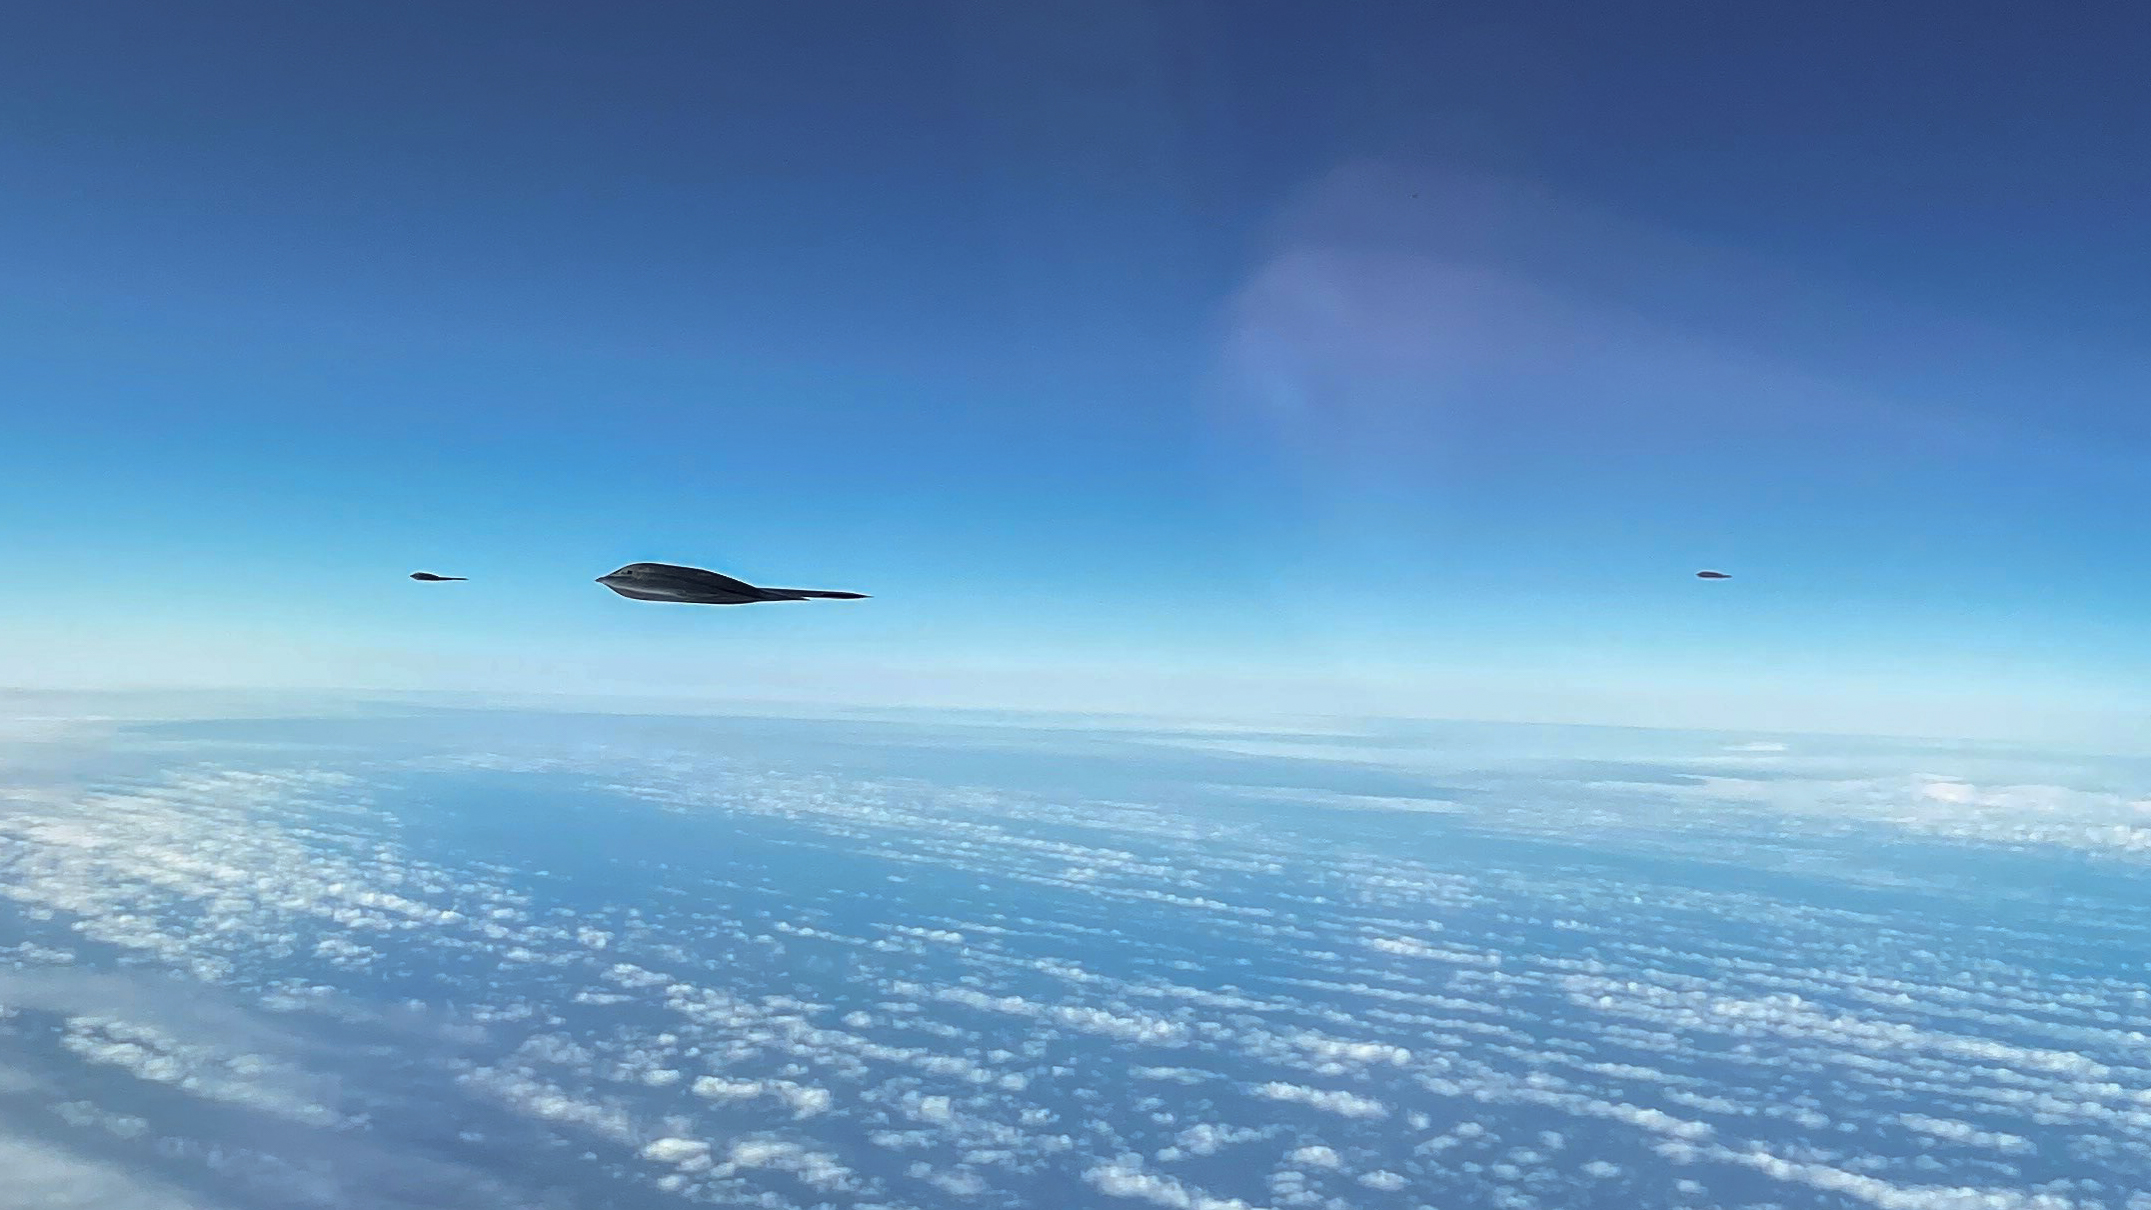B2: (594, 561, 875, 606), (409, 570, 470, 582), (1695, 570, 1733, 579)
